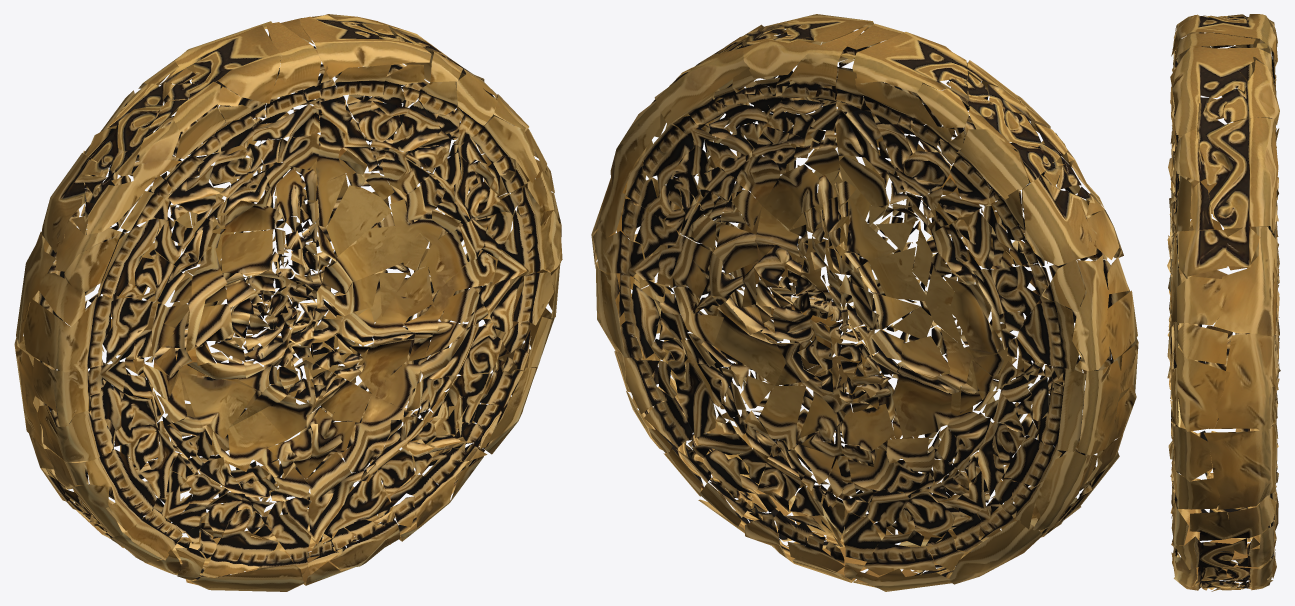
Rendered from Coin.fbx.
The picture shows the model from 3 angles, left to right: view 1: azimuth 30°, elevation 25°; view 2: azimuth 150°, elevation 25°; view 3: azimuth 270°, elevation 25°; orthographic projection. The views are drawn at different scales.
Parts seen in each view (by area): view 1: Coin; view 2: Coin; view 3: Coin.
Part boxes in pixels (x1,y1,x2,y2): Coin: (14,14,562,591); Coin: (591,14,1138,591); Coin: (1167,14,1280,591).
Bounding box in the file's own units: 0.5959 × 0.5973 × 0.1179.
Materials: 1 (1 with a texture image).
